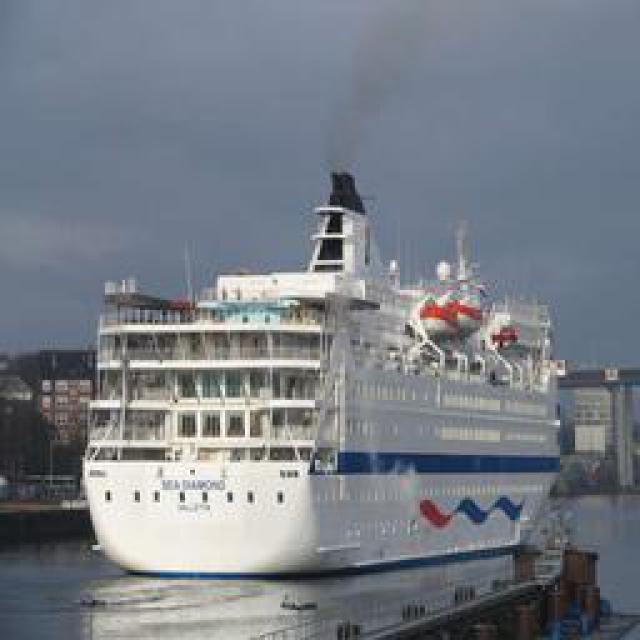Ship: (87, 159, 585, 602)
